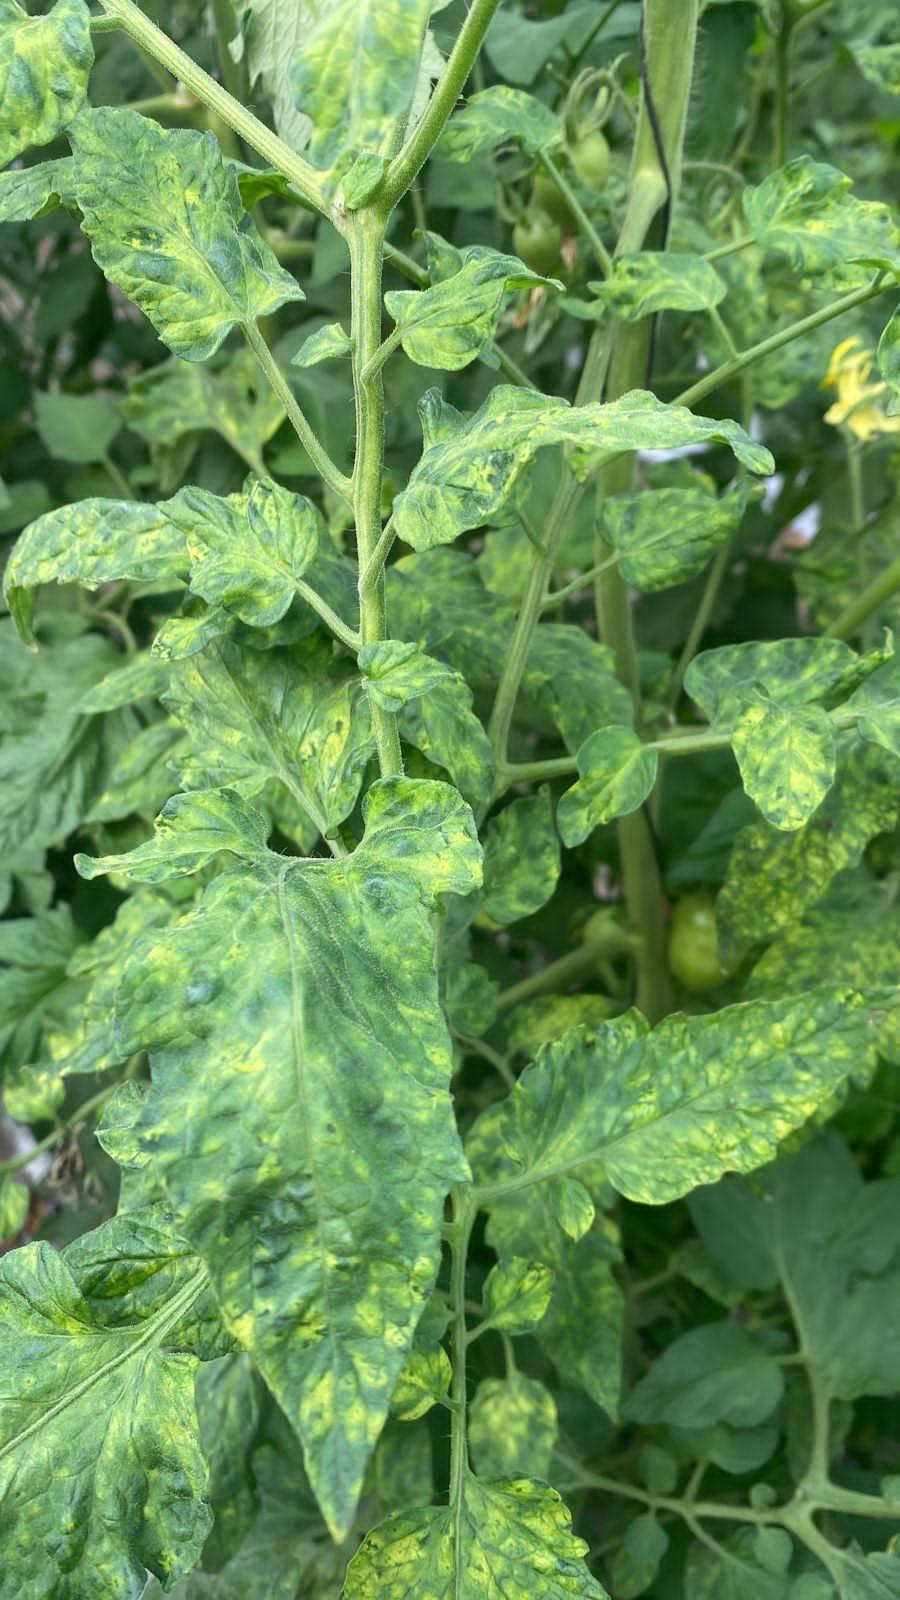Hoja rugoso: (119, 778, 481, 1537), (490, 989, 876, 1204), (0, 1244, 212, 1600), (78, 634, 375, 885), (390, 385, 775, 549), (3, 475, 359, 647), (69, 107, 303, 363), (342, 1471, 610, 1600), (290, 0, 434, 207), (359, 641, 493, 807), (381, 247, 559, 371), (744, 156, 900, 281), (63, 1203, 200, 1329), (1, 0, 93, 166), (731, 690, 834, 831), (556, 725, 659, 847), (485, 1256, 553, 1334)
Pedunculo rugoso: (337, 0, 497, 641), (101, 0, 329, 210), (242, 323, 353, 503)
